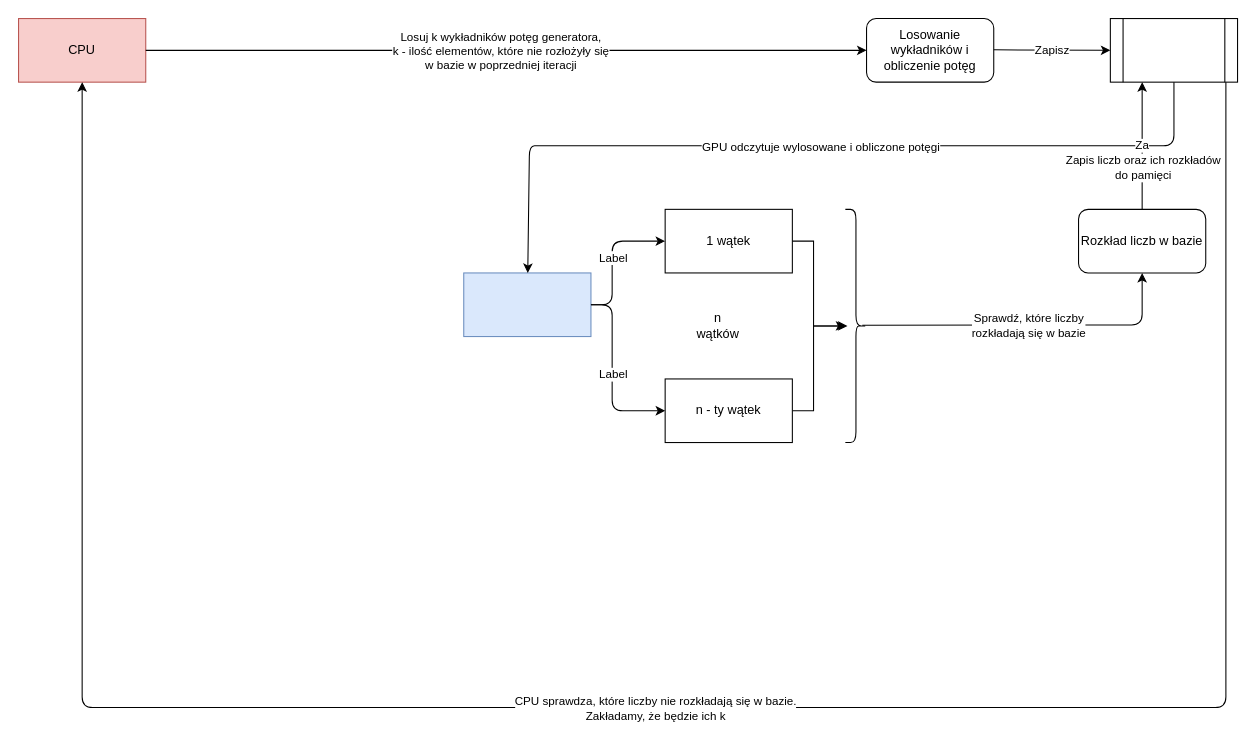
This 1256x740 diagram has some shape labels left out. The shapes that lost their labels are listed below. From the top down, each one's centre as x and y in pixels, then its label:
the point at 1173,49: Pamięc globalna
the point at 527,304: GPU
